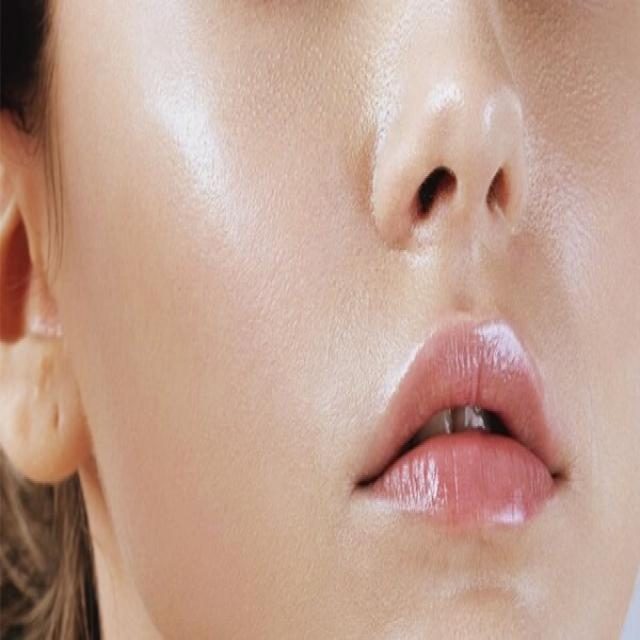oily: (130, 32, 240, 254), (533, 122, 599, 311), (356, 44, 406, 154), (436, 566, 552, 610), (482, 79, 522, 139), (422, 73, 466, 125)
